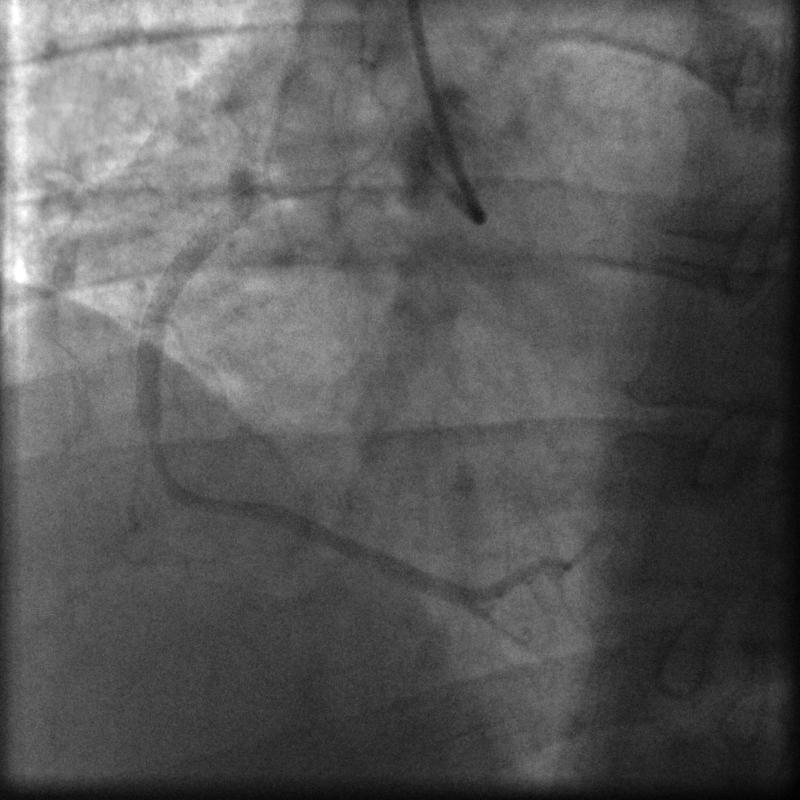Stenosis: (134, 411, 172, 484)
